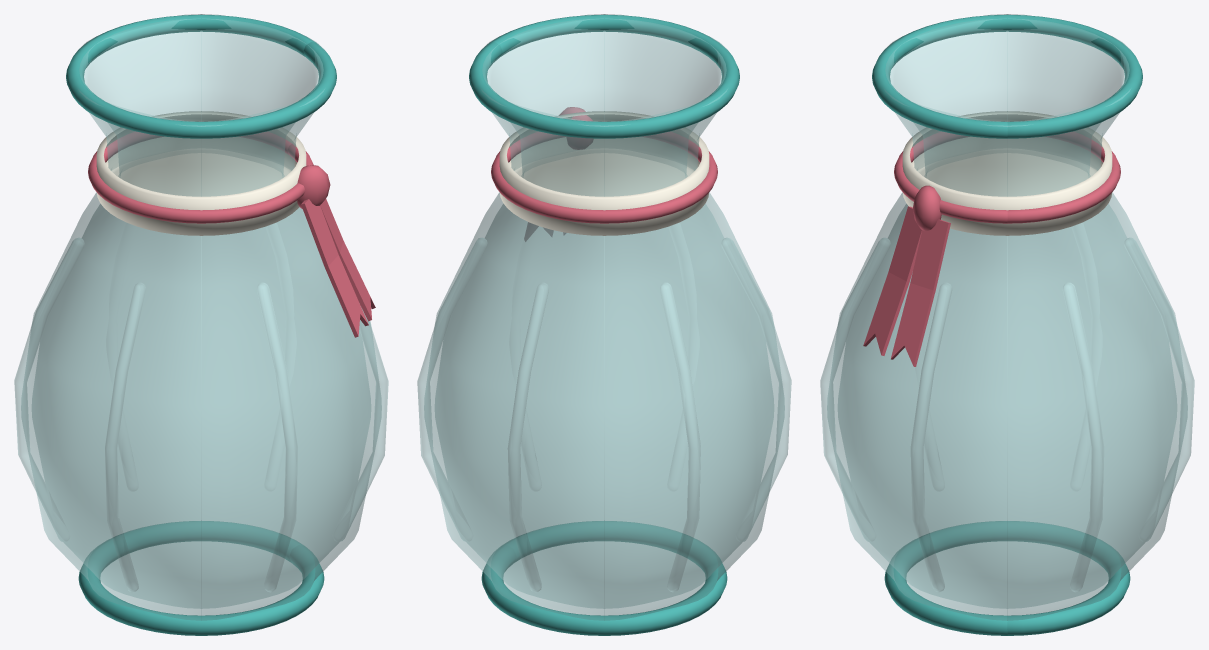
The model's file is vase_rose.glb.
3 views of the same model, side by side, from view 1: azimuth 30°, elevation 25°; view 2: azimuth 150°, elevation 25°; view 3: azimuth 270°, elevation 25° (orthographic).
Parts seen in each view (by area): view 1: Rose_glass_body, Ivory_neck_collar, Thick_glass_foot, Rolled_glass_rim, Pink_neck_ribbon, Broad_glass_flute, Broad_glass_flute.005, Broad_glass_flute.004, Broad_glass_flute.001, Downward_ribbon_tail, Downward_ribbon_tail.001, Ribbon_knot; view 2: Rose_glass_body, Ivory_neck_collar, Thick_glass_foot, Rolled_glass_rim, Pink_neck_ribbon, Broad_glass_flute.003, Broad_glass_flute.004, Broad_glass_flute.005, Broad_glass_flute.002; view 3: Rose_glass_body, Ivory_neck_collar, Thick_glass_foot, Rolled_glass_rim, Pink_neck_ribbon, Broad_glass_flute.001, Broad_glass_flute.002, Broad_glass_flute, Broad_glass_flute.003, Downward_ribbon_tail.001, Downward_ribbon_tail, Ribbon_knot.
Boxes of the visible parts, <box> form: Rose_glass_body: <box>21,14,381,620</box>; Ivory_neck_collar: <box>96,111,306,235</box>; Thick_glass_foot: <box>78,521,324,635</box>; Rolled_glass_rim: <box>66,14,336,138</box>; Pink_neck_ribbon: <box>88,132,313,223</box>; Broad_glass_flute: <box>257,283,298,592</box>; Broad_glass_flute.005: <box>105,283,145,592</box>; Broad_glass_flute.004: <box>14,238,84,541</box>; Broad_glass_flute.001: <box>335,309,388,540</box>; Downward_ribbon_tail: <box>301,199,368,337</box>; Downward_ribbon_tail.001: <box>320,199,375,321</box>; Ribbon_knot: <box>297,165,330,208</box>; Rose_glass_body: <box>424,14,784,620</box>; Ivory_neck_collar: <box>499,111,709,235</box>; Thick_glass_foot: <box>481,521,727,635</box>; Rolled_glass_rim: <box>469,14,739,138</box>; Pink_neck_ribbon: <box>491,132,717,223</box>; Broad_glass_flute.003: <box>507,283,548,592</box>; Broad_glass_flute.004: <box>660,283,700,592</box>; Broad_glass_flute.005: <box>721,238,791,541</box>; Broad_glass_flute.002: <box>417,238,487,540</box>; Rose_glass_body: <box>827,14,1187,620</box>; Ivory_neck_collar: <box>902,111,1112,235</box>; Thick_glass_foot: <box>884,521,1130,635</box>; Rolled_glass_rim: <box>872,14,1142,138</box>; Pink_neck_ribbon: <box>894,132,1120,223</box>; Broad_glass_flute.001: <box>910,283,951,592</box>; Broad_glass_flute.002: <box>1063,283,1104,592</box>; Broad_glass_flute: <box>820,238,890,540</box>; Broad_glass_flute.003: <box>1124,238,1194,540</box>; Downward_ribbon_tail.001: <box>891,219,950,366</box>; Downward_ribbon_tail: <box>863,206,922,355</box>; Ribbon_knot: <box>912,185,941,231</box>.
Size of the model in its own units: 0.1042 by 0.1605 by 0.1036.
